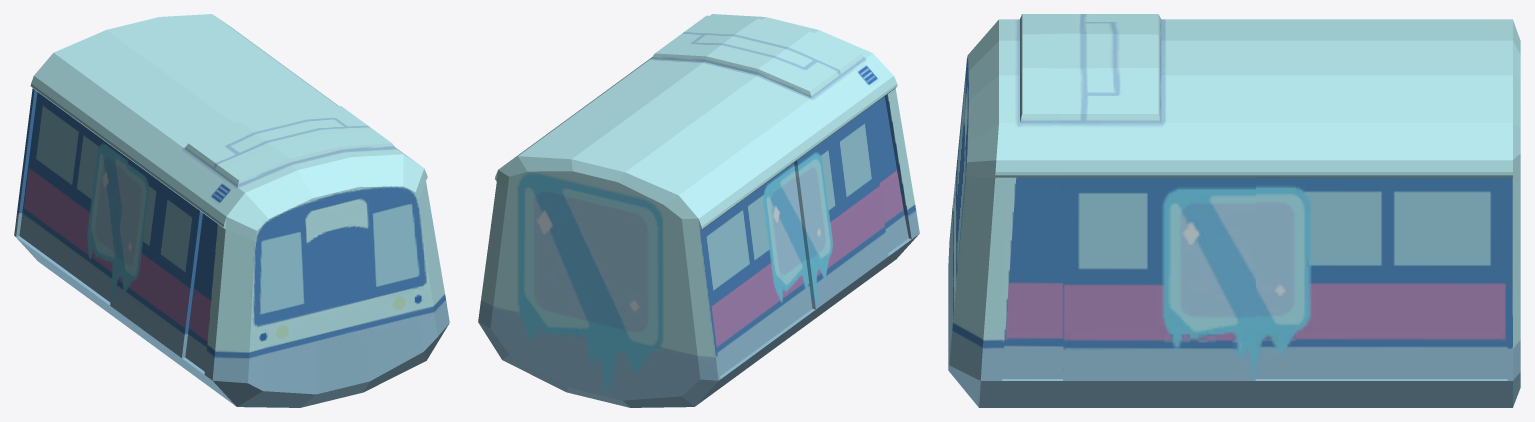
File: MovingPlatformMRT_FreezeHovered.fbx
3 renders of one model, left to right at view 1: azimuth 30°, elevation 25°; view 2: azimuth 150°, elevation 25°; view 3: azimuth 270°, elevation 25°, orthographic. The views are drawn at different scales.
Parts seen in each view (by area): view 1: Cube.016; view 2: Cube.016; view 3: Cube.016.
Part boxes in pixels (left/top/right/bottom): Cube.016: left=14, top=14, right=449, bottom=407; Cube.016: left=478, top=14, right=919, bottom=407; Cube.016: left=948, top=14, right=1520, bottom=407.
Size of the model in its own units: 276 by 263 by 430.
